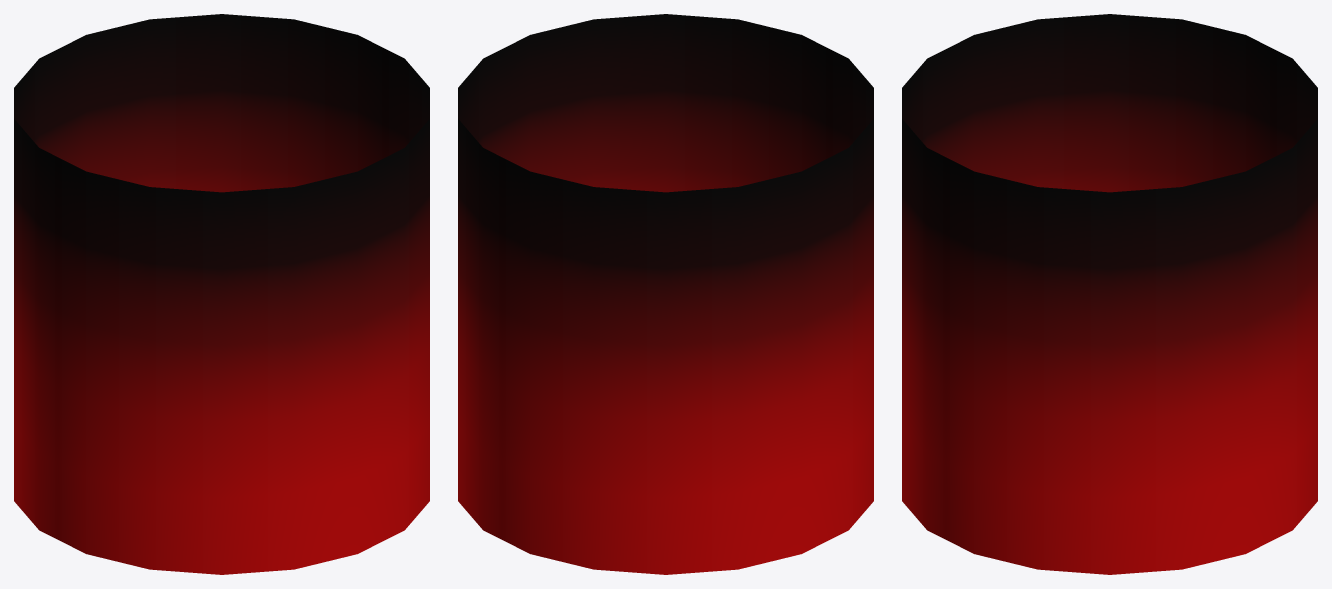
Rendered from Mesh_CylinderBeam.fbx.
3 renders of one model, left to right at view 1: azimuth 30°, elevation 25°; view 2: azimuth 150°, elevation 25°; view 3: azimuth 270°, elevation 25°, orthographic.
Visible parts, largest first — view 1: Cylinder001; view 2: Cylinder001; view 3: Cylinder001.
Part boxes in pixels (bbox=[...]): Cylinder001: bbox=[14, 14, 429, 574]; Cylinder001: bbox=[458, 14, 873, 574]; Cylinder001: bbox=[902, 14, 1317, 574].
Size of the model in its own units: 150 by 148 by 150.
